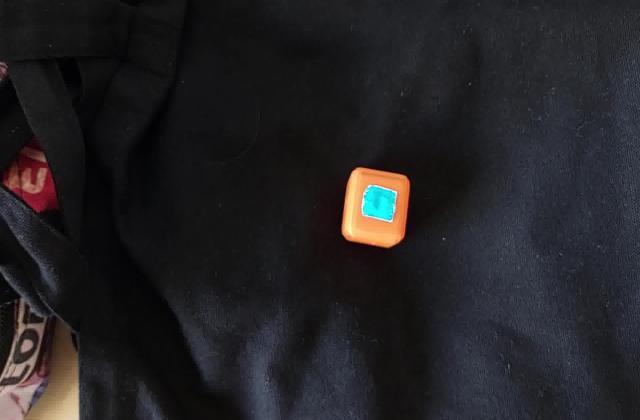blue: (370, 193, 394, 217)
sticker: (337, 162, 413, 252)
